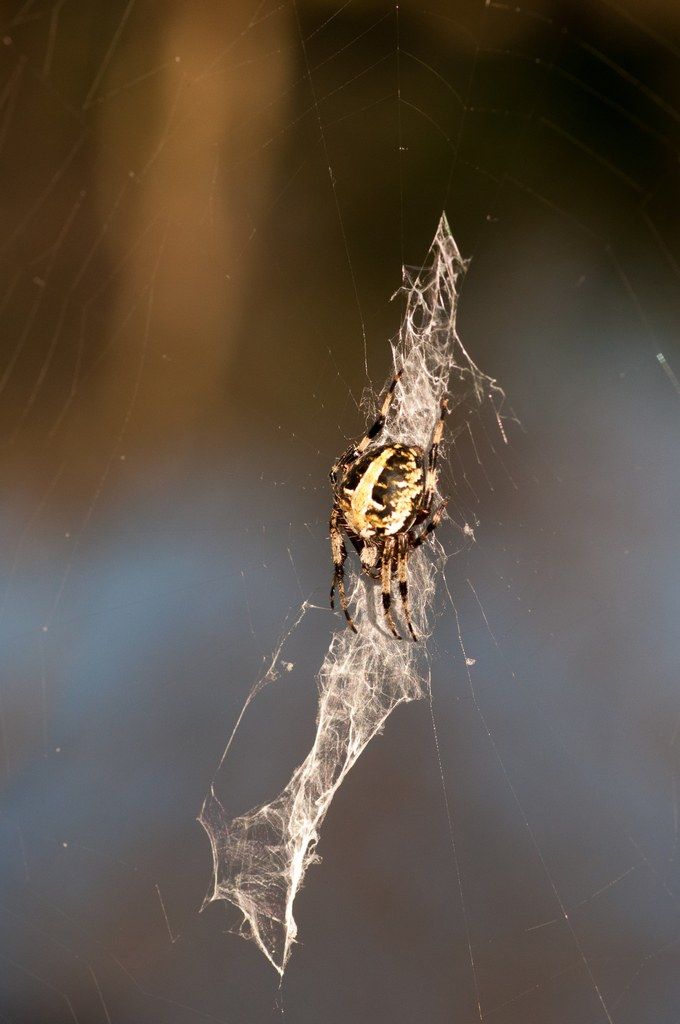insect: (327, 358, 451, 639), (329, 364, 449, 639)
